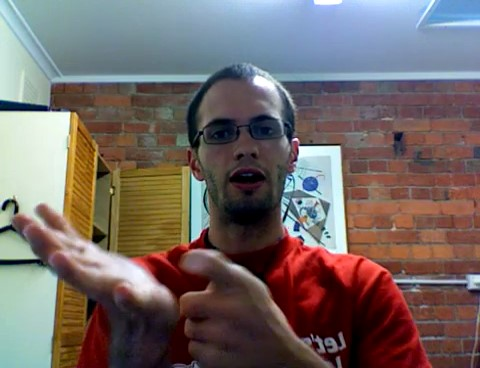R: (6, 193, 328, 362)
